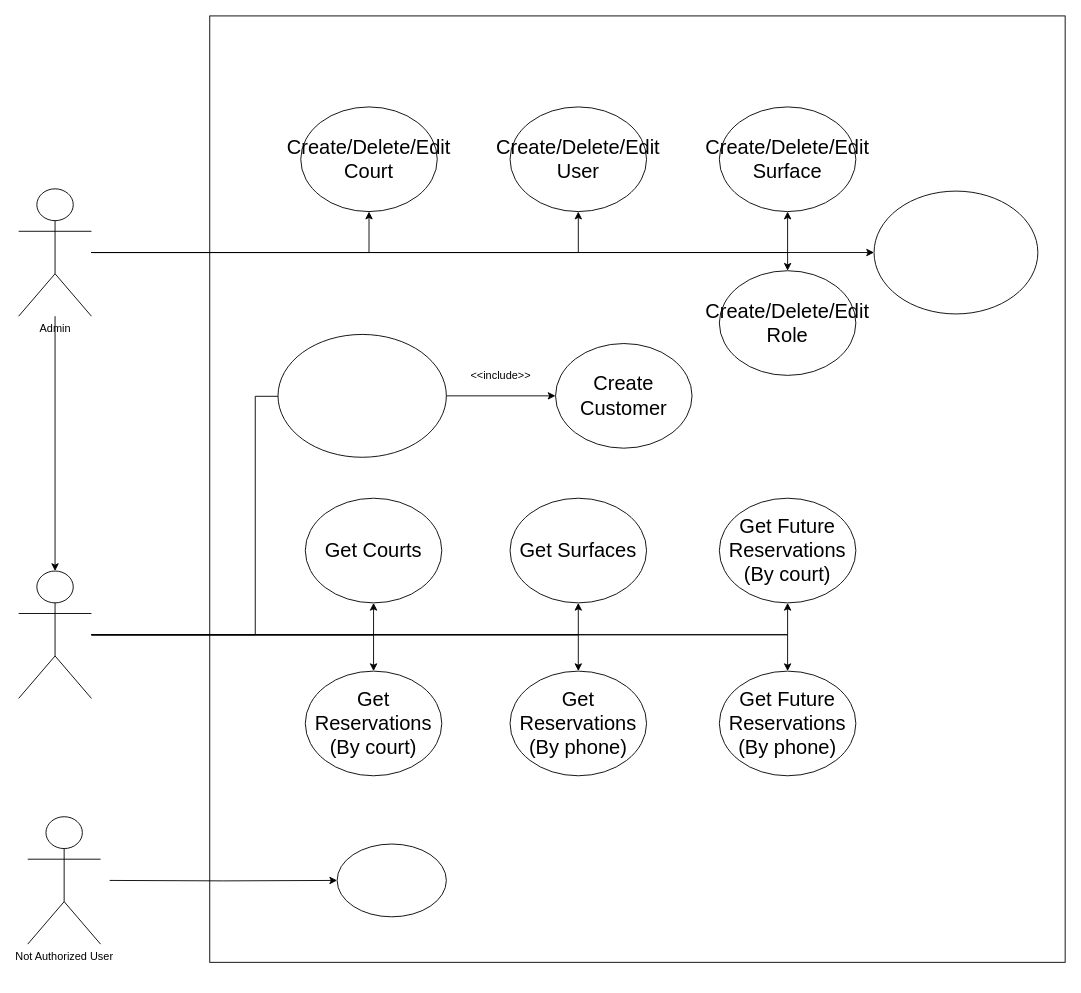
Some shapes in this 1081 by 993 pixel diagram are drawn without their labels. The box of each missing label's shape, as (x1, y1, x2, y2) in pixels:
Create/Delete/Edit Customer: (873, 190, 1038, 314)
Create/Delete/Edit Reservatoin: (277, 334, 446, 457)
Login: (336, 843, 446, 917)
User: (18, 570, 91, 698)
